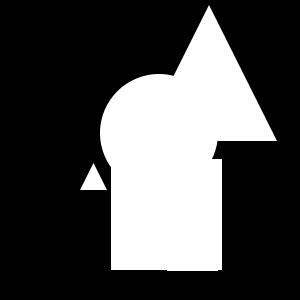circle: (111, 159, 222, 270), (167, 220, 218, 271)
rectangle: (100, 74, 218, 192)
triangle: (141, 5, 277, 141), (80, 163, 107, 190)
